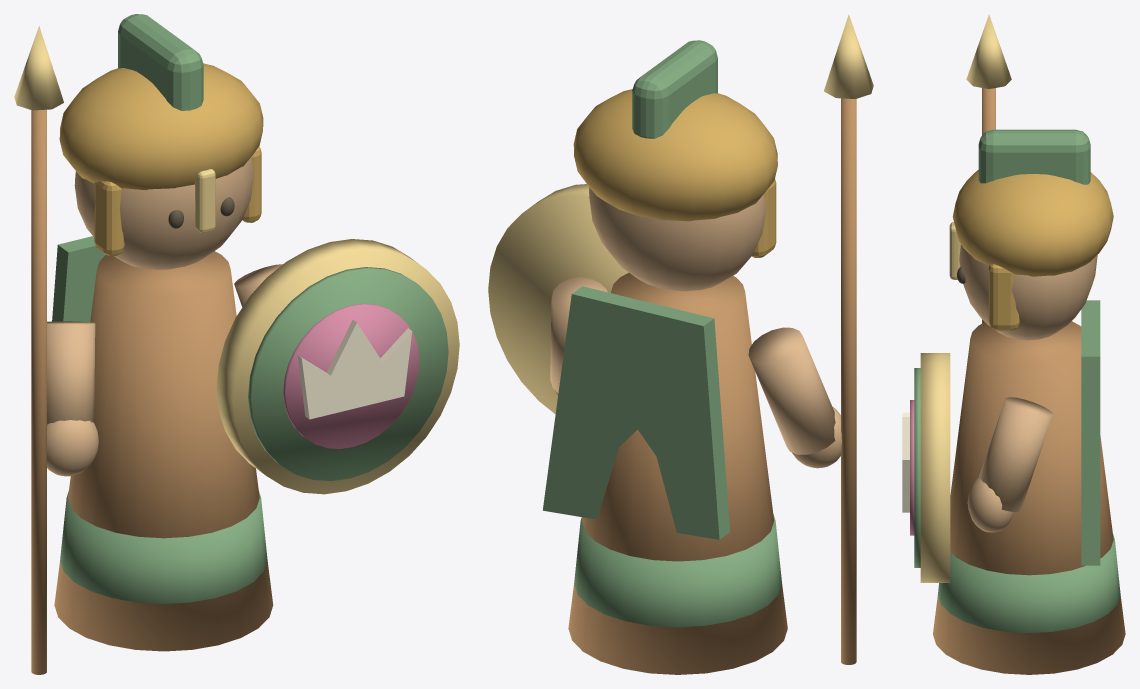
The model's file is peg.glb.
The picture shows the model from 3 angles, left to right: view 1: azimuth 30°, elevation 25°; view 2: azimuth 150°, elevation 25°; view 3: azimuth 270°, elevation 25°; orthographic projection. The views are drawn at different scales.
Parts seen in each view (by area): view 1: Single turned wooden body, Bronze helmet.001, Shield face.002, Shield rim.001, Painted green lower band, Face.001, Spear shaft.001, Shield face.003, Crown relief.001, Green crest.001, Arm.002, Cape.001 (+6 smaller); view 2: Cape.001, Single turned wooden body, Bronze helmet.001, Shield rim.001, Painted green lower band, Face.001, Spear shaft.001, Arm.002, Green crest.001, Spear tip.001, Arm.003, Cheek guard.002 (+1 smaller); view 3: Single turned wooden body, Bronze helmet.001, Painted green lower band, Shield rim.001, Face.001, Green crest.001, Cape.001, Arm.003, Spear tip.001, Cheek guard.003, Hand.003, Shield face.002 (+4 smaller).
Part boxes in pixels (x1,y1,x2,y2): Single turned wooden body: (54, 251, 273, 651); Bronze helmet.001: (59, 63, 263, 190); Shield face.002: (248, 267, 448, 481); Shield rim.001: (216, 239, 459, 494); Painted green lower band: (60, 490, 267, 603); Face.001: (74, 157, 253, 269); Spear shaft.001: (31, 109, 46, 674); Shield face.003: (283, 303, 419, 448); Crown relief.001: (297, 320, 412, 419); Green crest.001: (118, 14, 203, 110); Arm.002: (47, 321, 95, 424); Cape.001: (52, 236, 105, 322); Cape.001: (542, 286, 730, 539); Single turned wooden body: (568, 272, 787, 674); Bronze helmet.001: (573, 89, 777, 221); Shield rim.001: (488, 184, 628, 413); Painted green lower band: (574, 514, 781, 627); Face.001: (588, 187, 766, 291); Spear shaft.001: (841, 98, 856, 664); Arm.002: (748, 327, 835, 454); Green crest.001: (632, 40, 717, 138); Spear tip.001: (824, 14, 873, 98); Arm.003: (550, 277, 607, 392); Cheek guard.002: (751, 179, 776, 257); Single turned wooden body: (933, 321, 1125, 674); Bronze helmet.001: (952, 170, 1113, 276); Painted green lower band: (938, 534, 1120, 632); Shield rim.001: (920, 353, 950, 582); Face.001: (959, 244, 1097, 340); Green crest.001: (978, 129, 1090, 184); Cape.001: (1081, 300, 1100, 565); Arm.003: (979, 397, 1052, 511); Spear tip.001: (966, 14, 1011, 88); Cheek guard.003: (988, 264, 1019, 330); Hand.003: (967, 477, 1013, 532); Shield face.002: (914, 368, 920, 567).
Bounding box in the file's own units: 1.54 × 2.35 × 0.834.
